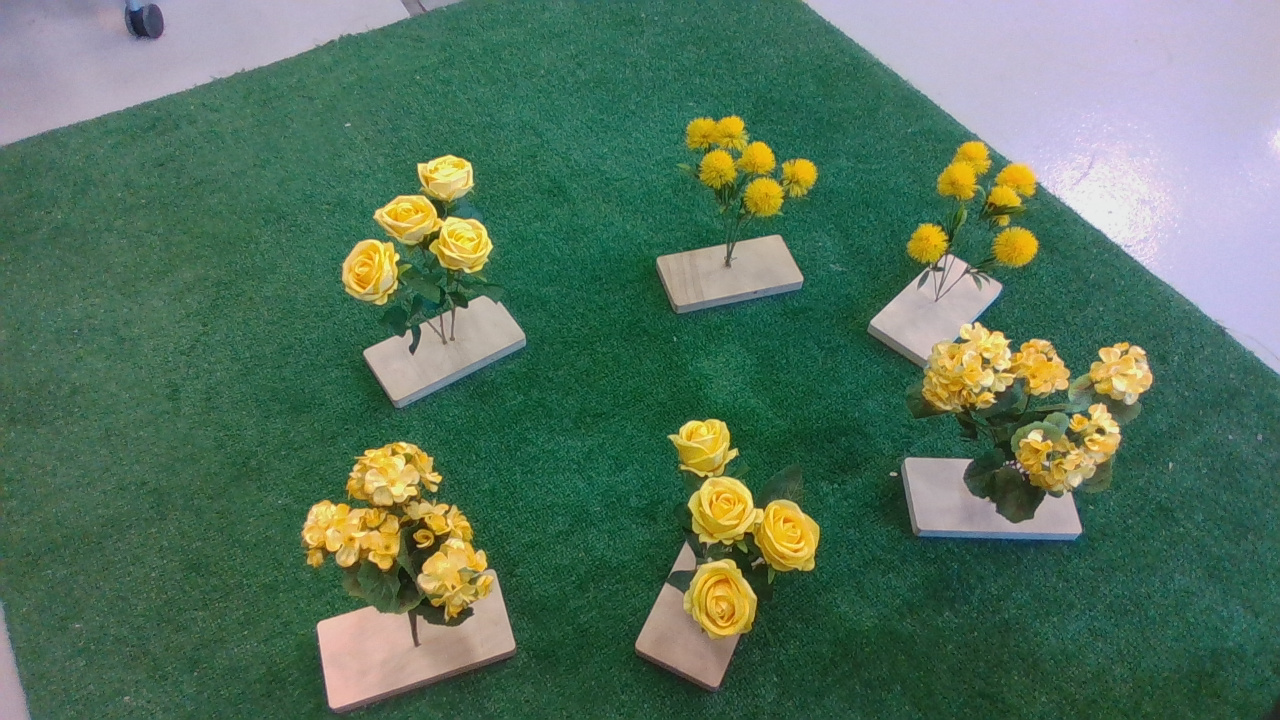dandelion: (907, 145, 1056, 292), (659, 111, 827, 236)
geranium: (905, 323, 1167, 531), (296, 444, 521, 645)
rose: (641, 404, 830, 649), (340, 147, 507, 343)
